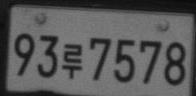3: (37, 34, 59, 77)
5: (113, 38, 135, 82)
7: (139, 39, 162, 84), (89, 37, 111, 79)
8: (163, 41, 186, 86)
9: (13, 32, 35, 76)
루: (61, 43, 82, 79)
